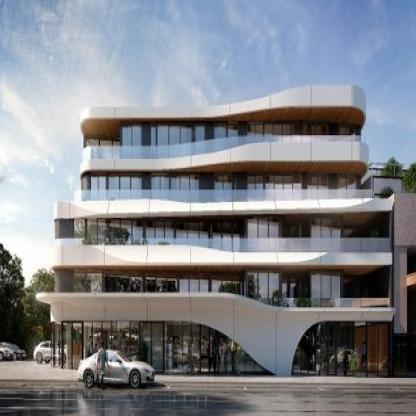Balcony: (80, 136, 369, 165), (50, 289, 390, 308), (52, 238, 389, 253), (74, 189, 370, 206)
Building Outline: (35, 84, 396, 377)
Door: (355, 323, 365, 375)
Facade: (36, 84, 396, 377)
Glass Wall: (51, 322, 267, 371), (87, 220, 241, 252), (214, 123, 327, 163), (104, 279, 242, 309), (292, 323, 353, 375), (152, 126, 205, 163), (248, 176, 302, 212), (151, 176, 200, 212), (92, 176, 141, 212), (366, 323, 388, 375), (247, 273, 279, 307), (249, 218, 280, 252), (311, 218, 342, 251), (312, 273, 341, 307), (213, 176, 236, 212), (308, 176, 328, 212), (337, 176, 356, 212), (85, 139, 119, 159), (339, 123, 354, 163), (123, 126, 140, 159)
